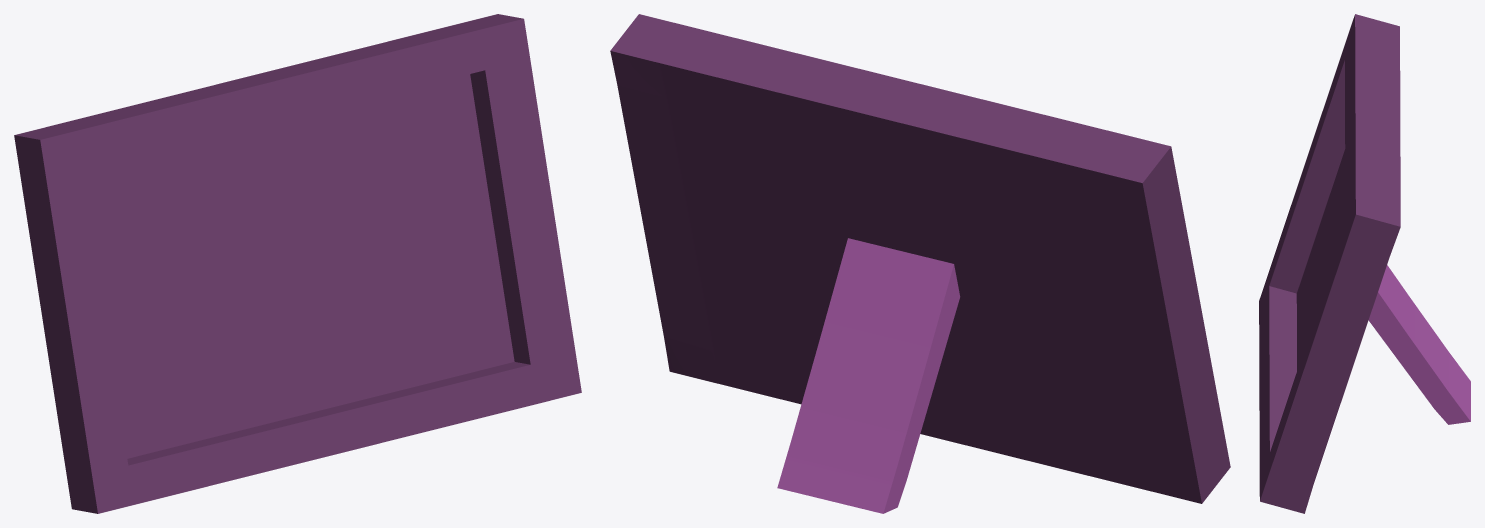
File: landscape_high.fbx
The picture shows the model from 3 angles, left to right: view 1: azimuth 30°, elevation 25°; view 2: azimuth 150°, elevation 25°; view 3: azimuth 270°, elevation 25°; orthographic projection. The views are drawn at different scales.
Visible parts, largest first — view 1: landscape_high; view 2: landscape_high, landscape_stand_high; view 3: landscape_high, landscape_stand_high.
Part boxes in pixels (<box>): landscape_high: <box>14,14,581,513</box>; landscape_high: <box>610,14,1230,503</box>; landscape_stand_high: <box>777,238,960,513</box>; landscape_high: <box>1259,14,1400,513</box>; landscape_stand_high: <box>1368,265,1470,424</box>.
Size of the model in its own units: 7.39 by 5.09 by 3.25.
